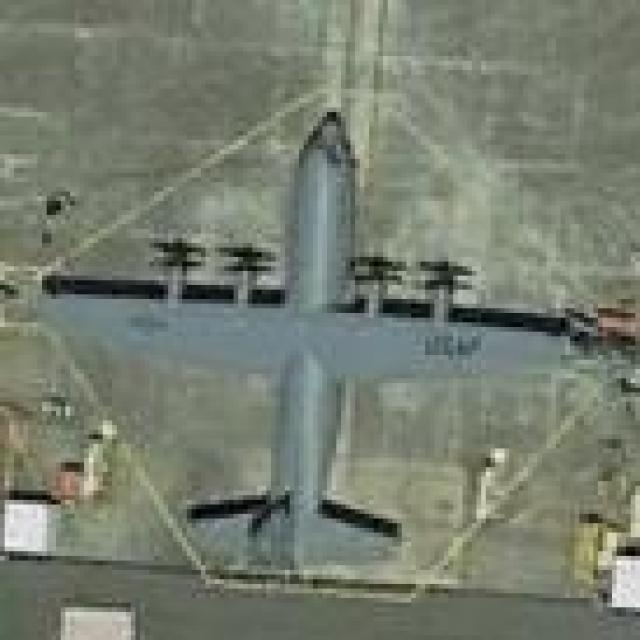C-130_TopDown: (41, 102, 585, 580)
